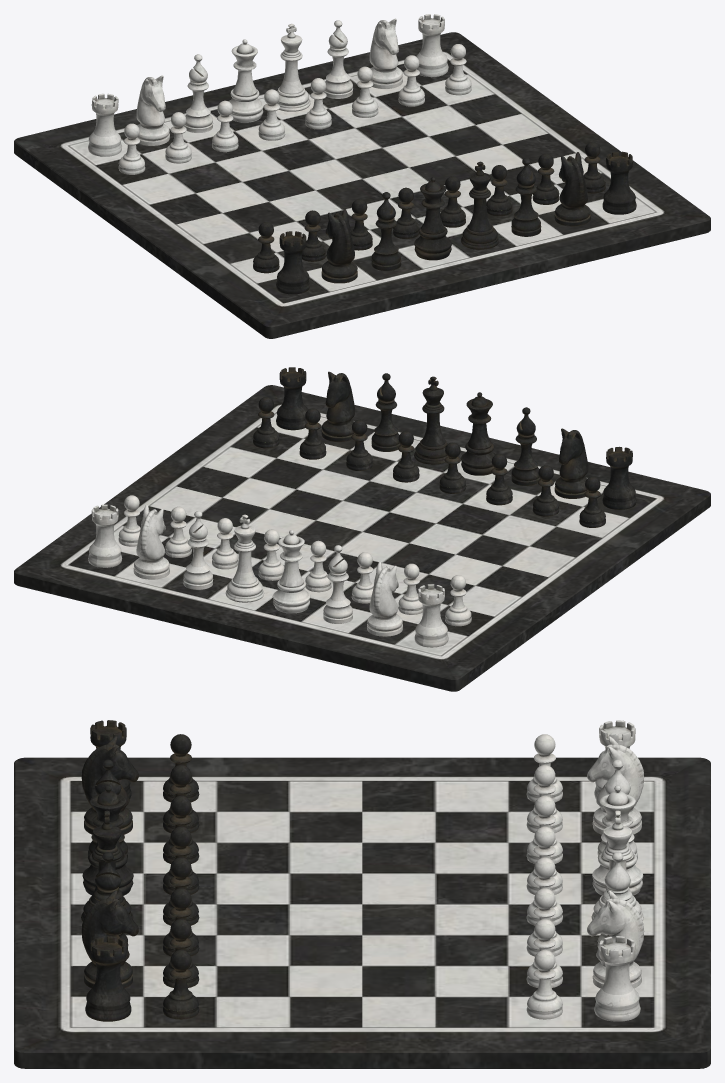
Rendered from chess_set.glb.
The picture shows the model from 3 angles, top to bottom: view 1: azimuth 30°, elevation 25°; view 2: azimuth 150°, elevation 25°; view 3: azimuth 270°, elevation 25°; orthographic projection. The views are drawn at different scales.
Visible parts, largest first — view 1: chess_set; view 2: chess_set; view 3: chess_set.
Boxes of the visible parts, x1,y1,x2,y2 form: chess_set: [14, 14, 710, 338]; chess_set: [14, 367, 710, 691]; chess_set: [14, 720, 710, 1068].
Size of the model in its own units: 0.5532 by 0.1124 by 0.5532.
Materials: 3 (3 with a texture image).
